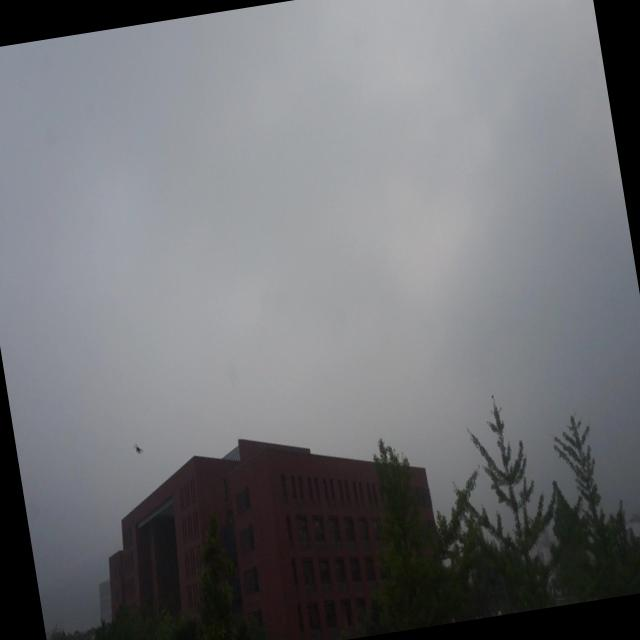drone: (132, 439, 145, 459)
